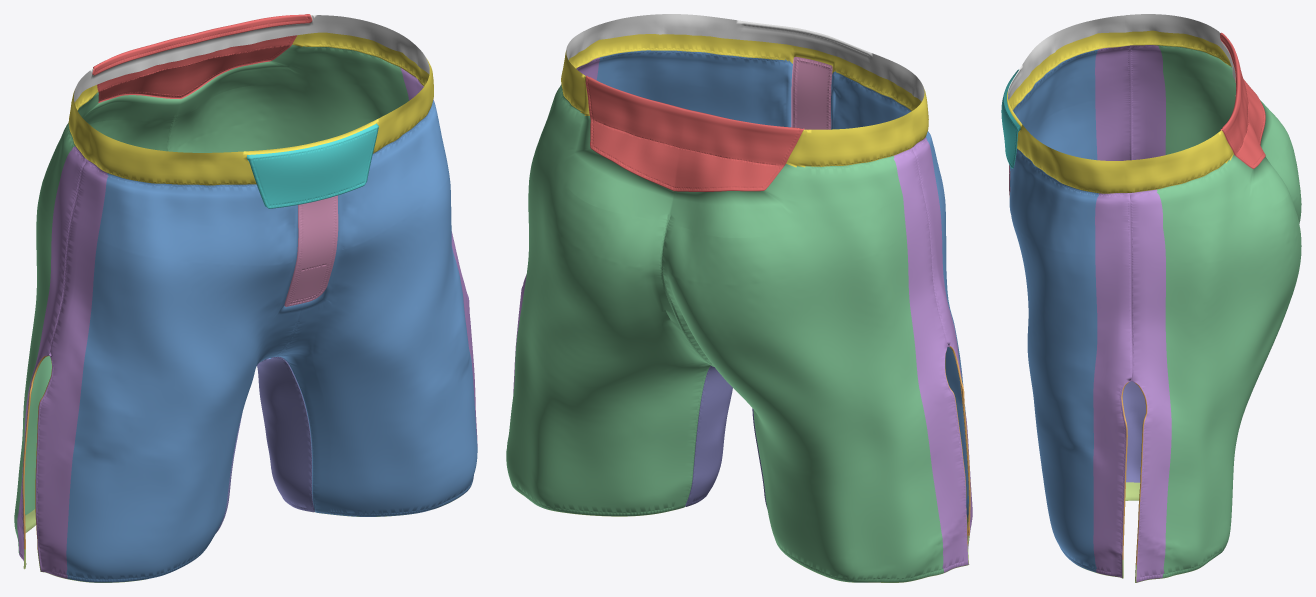
3 views of the same model, side by side, from view 1: azimuth 30°, elevation 25°; view 2: azimuth 150°, elevation 25°; view 3: azimuth 270°, elevation 25° (orthographic). The views are drawn at different scales.
Visible parts, largest first — view 1: FIGHTERO_Shorts_V07; view 2: FIGHTERO_Shorts_V07; view 3: FIGHTERO_Shorts_V07.
Part boxes in pixels (x1,y1,x2,y2): FIGHTERO_Shorts_V07: (14, 14, 477, 582); FIGHTERO_Shorts_V07: (506, 14, 972, 582); FIGHTERO_Shorts_V07: (1001, 14, 1301, 582).
Bounding box in the file's own units: 0.6079 × 0.5679 × 0.3838.
